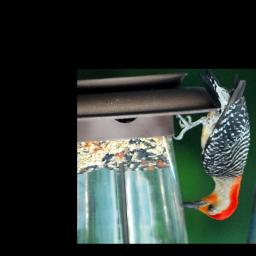Woodpecker: (174, 71, 254, 220)
